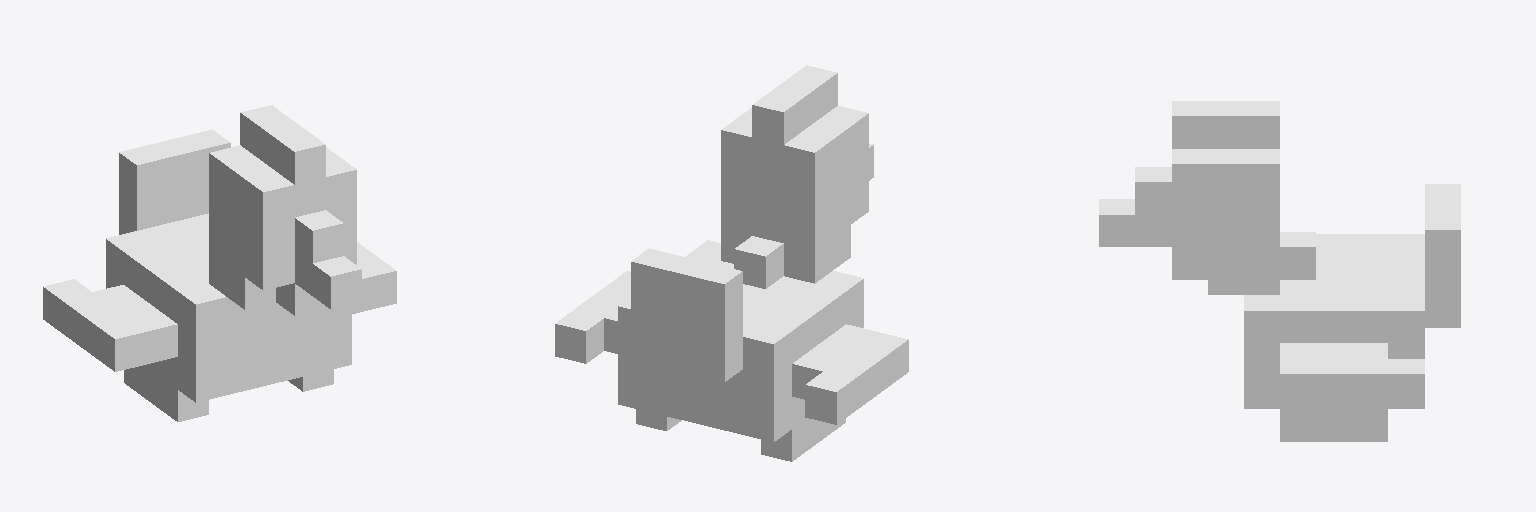
Rendered from Chick_promax.obj.
3 renders of one model, left to right at view 1: azimuth 30°, elevation 25°; view 2: azimuth 150°, elevation 25°; view 3: azimuth 270°, elevation 25°, orthographic.
Parts seen in each view (by area): view 1: object 1; view 2: object 1; view 3: object 1.
Part boxes in pixels (bbox=[...]): object 1: bbox=[43, 105, 396, 421]; object 1: bbox=[555, 65, 908, 461]; object 1: bbox=[1099, 101, 1460, 441].
Size of the model in its own units: 0.9 by 0.9 by 1.